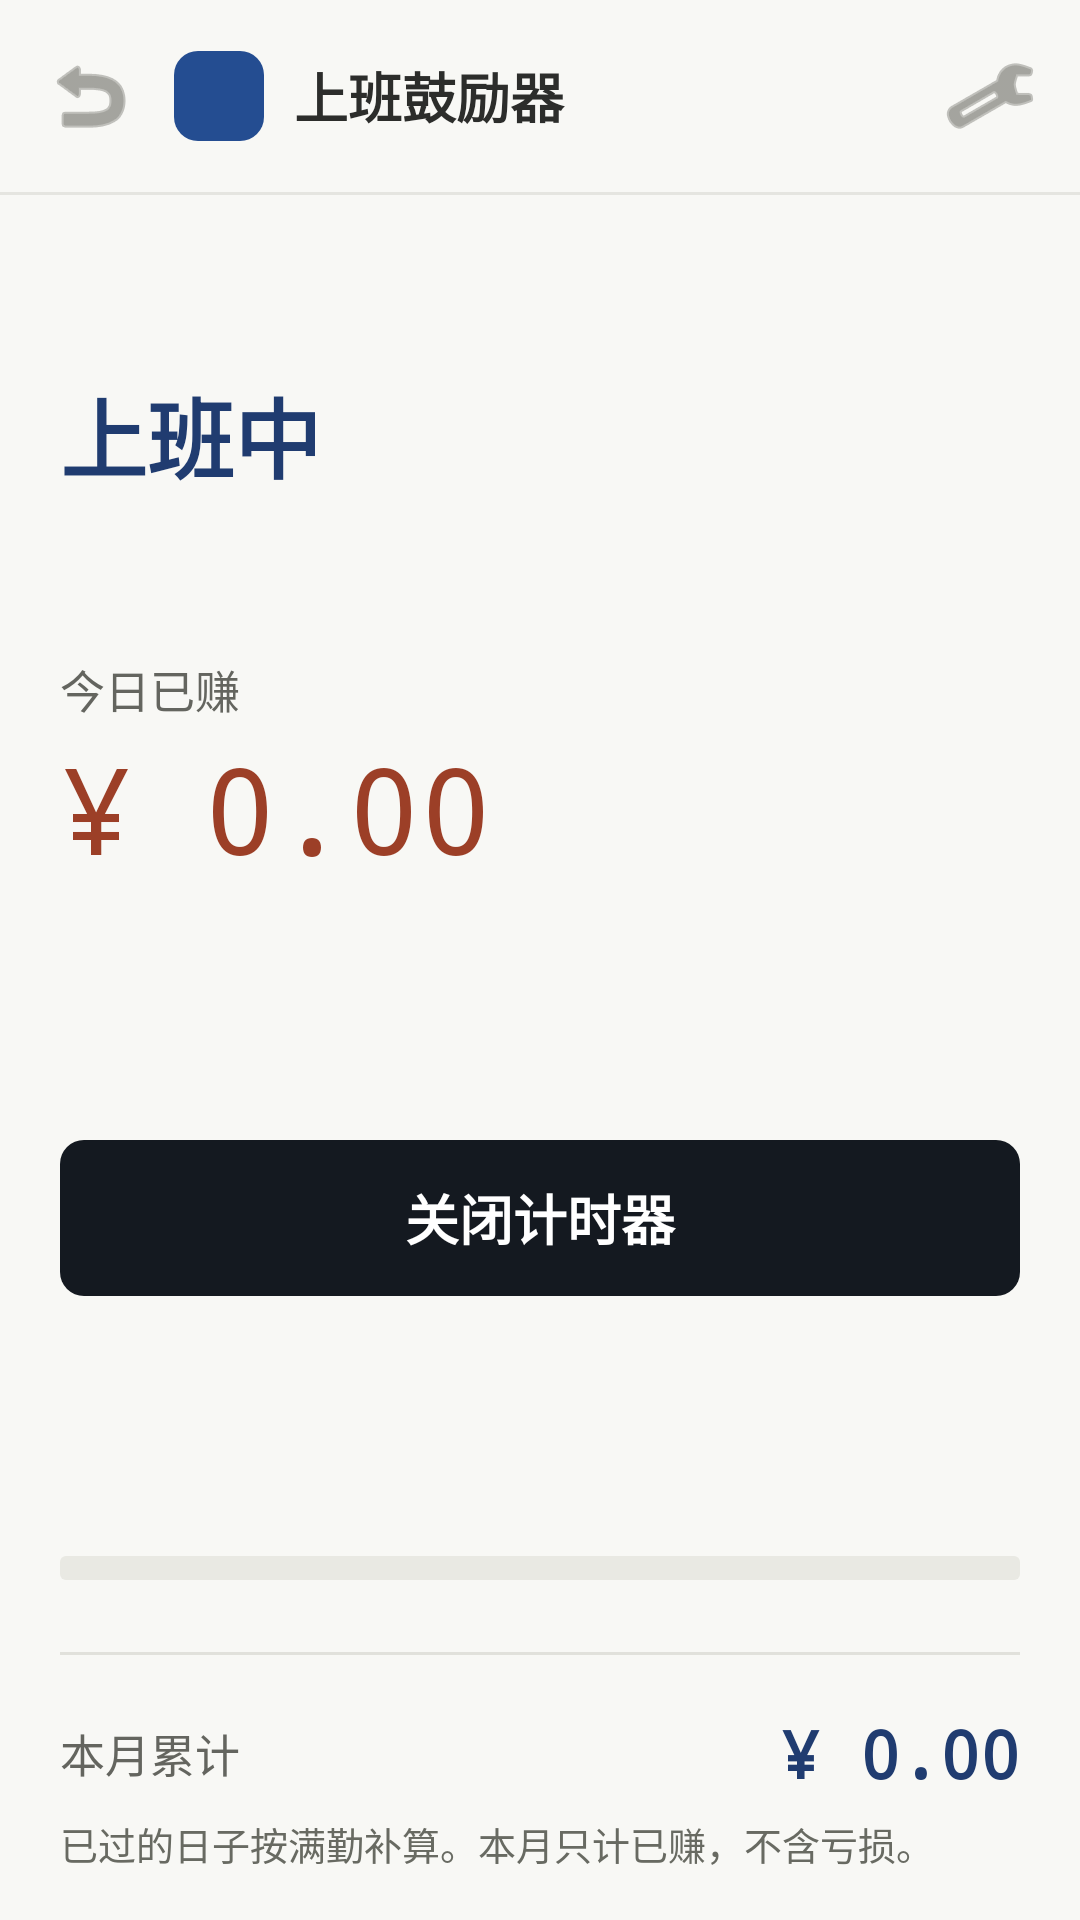

Named icons in this screenshot (1080 × 1920) and their centers, (x,y):
设置: (990,96)
返回: (91,97)
